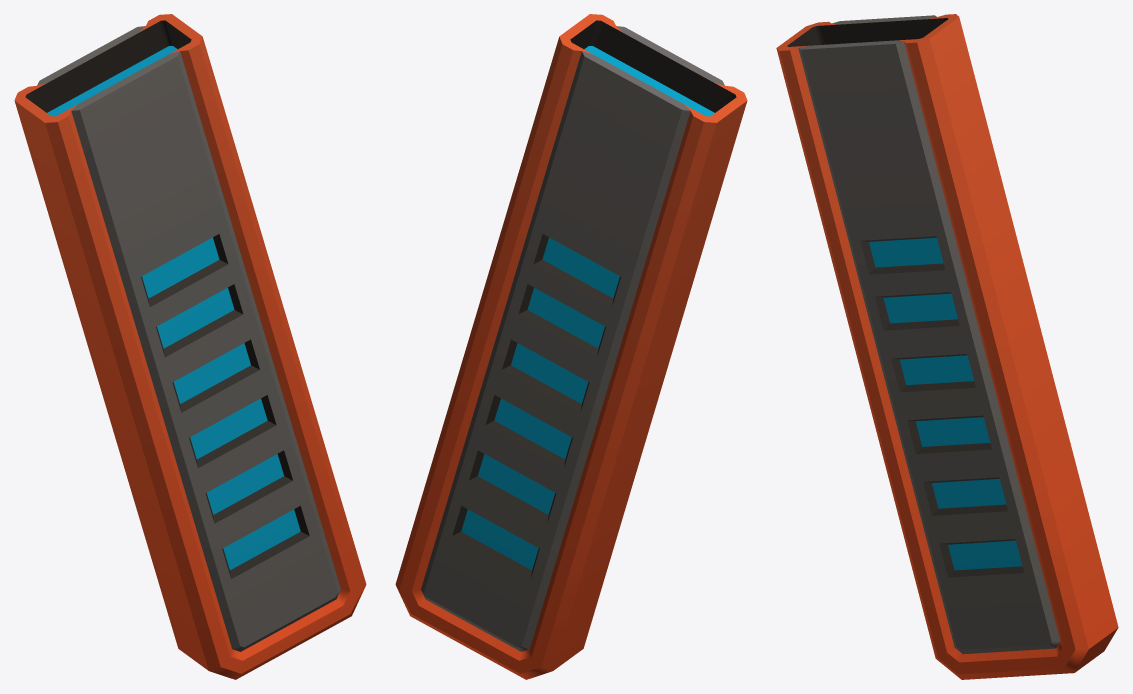
The model's file is SMG6_MagazineExtended.fbx.
3 renders of one model, left to right at view 1: azimuth 30°, elevation 25°; view 2: azimuth 150°, elevation 25°; view 3: azimuth 330°, elevation 25°, orthographic. The views are drawn at different scales.
Parts seen in each view (by area): view 1: SMG6_MagazineExtended; view 2: SMG6_MagazineExtended; view 3: SMG6_MagazineExtended.
Boxes of the visible parts, x1,y1,x2,y2 form: SMG6_MagazineExtended: (14, 14, 366, 679); SMG6_MagazineExtended: (395, 14, 747, 679); SMG6_MagazineExtended: (776, 14, 1118, 679).
Size of the model in its own units: 9.46 by 18.32 by 2.05.
